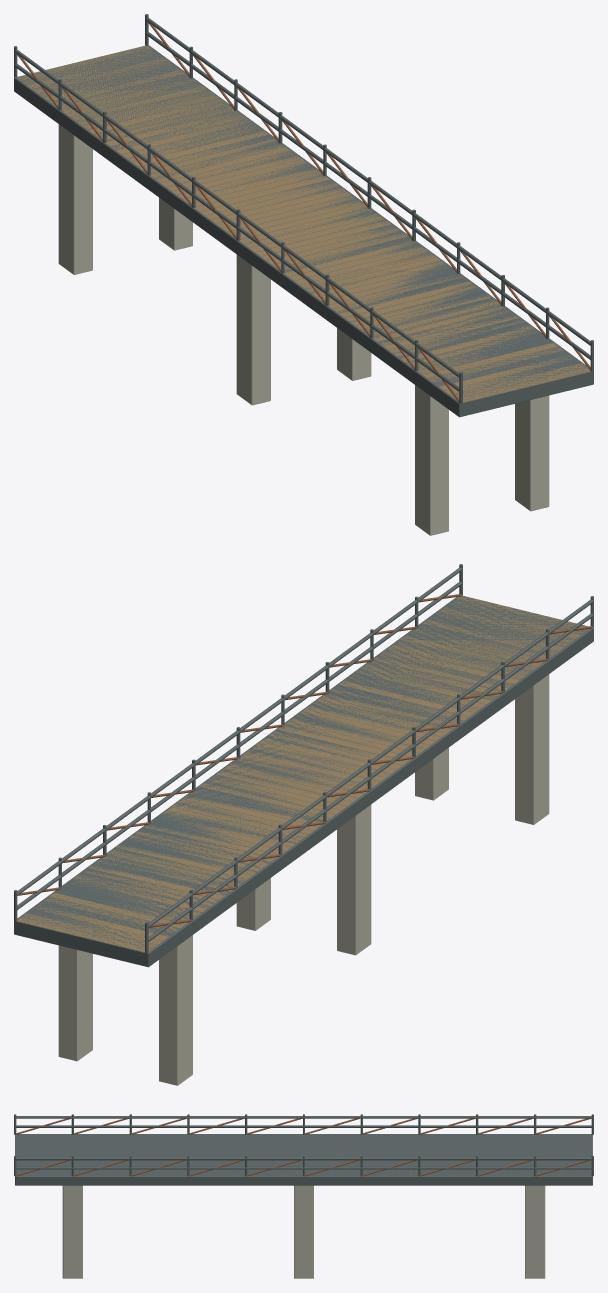
File: bridge.glb
The picture shows the model from 3 angles, top to bottom: view 1: azimuth 30°, elevation 25°; view 2: azimuth 150°, elevation 25°; view 3: azimuth 270°, elevation 25°; orthographic projection. The views are drawn at different scales.
Visible parts, largest first — view 1: bridge; view 2: bridge; view 3: bridge.
Boxes of the visible parts, x1,y1,x2,y2 form: bridge: (14, 14, 593, 535); bridge: (14, 564, 593, 1085); bridge: (14, 1114, 593, 1278).
Size of the model in its own units: 7 by 9.5 by 40.16.
